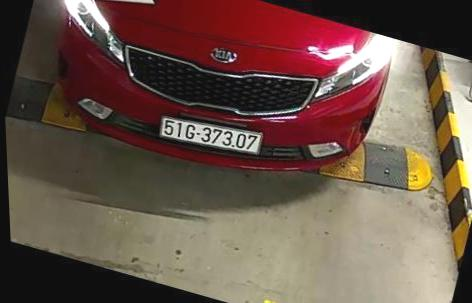License_Plate: (150, 111, 266, 160)
